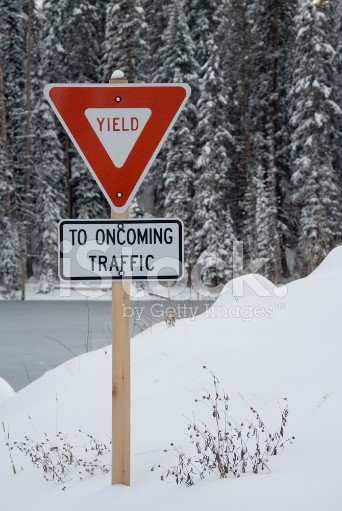Yeild: (42, 79, 193, 217)
